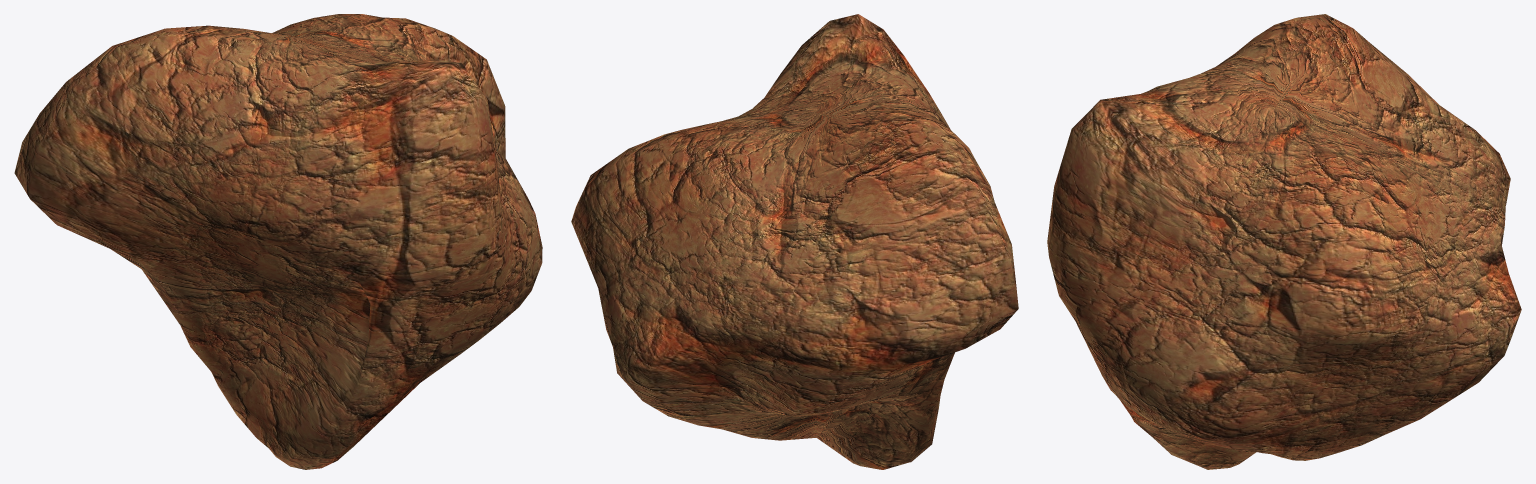
File: Meteoro_G.obj
The picture shows the model from 3 angles, left to right: view 1: azimuth 30°, elevation 25°; view 2: azimuth 150°, elevation 25°; view 3: azimuth 270°, elevation 25°; orthographic projection. The views are drawn at different scales.
Parts seen in each view (by area): view 1: Sphere002; view 2: Sphere002; view 3: Sphere002.
Boxes of the visible parts, <box> form: Sphere002: <box>14,14,542,469</box>; Sphere002: <box>571,14,1018,469</box>; Sphere002: <box>1047,14,1521,469</box>.
Size of the model in its own units: 35.78 by 30.69 by 32.51.
